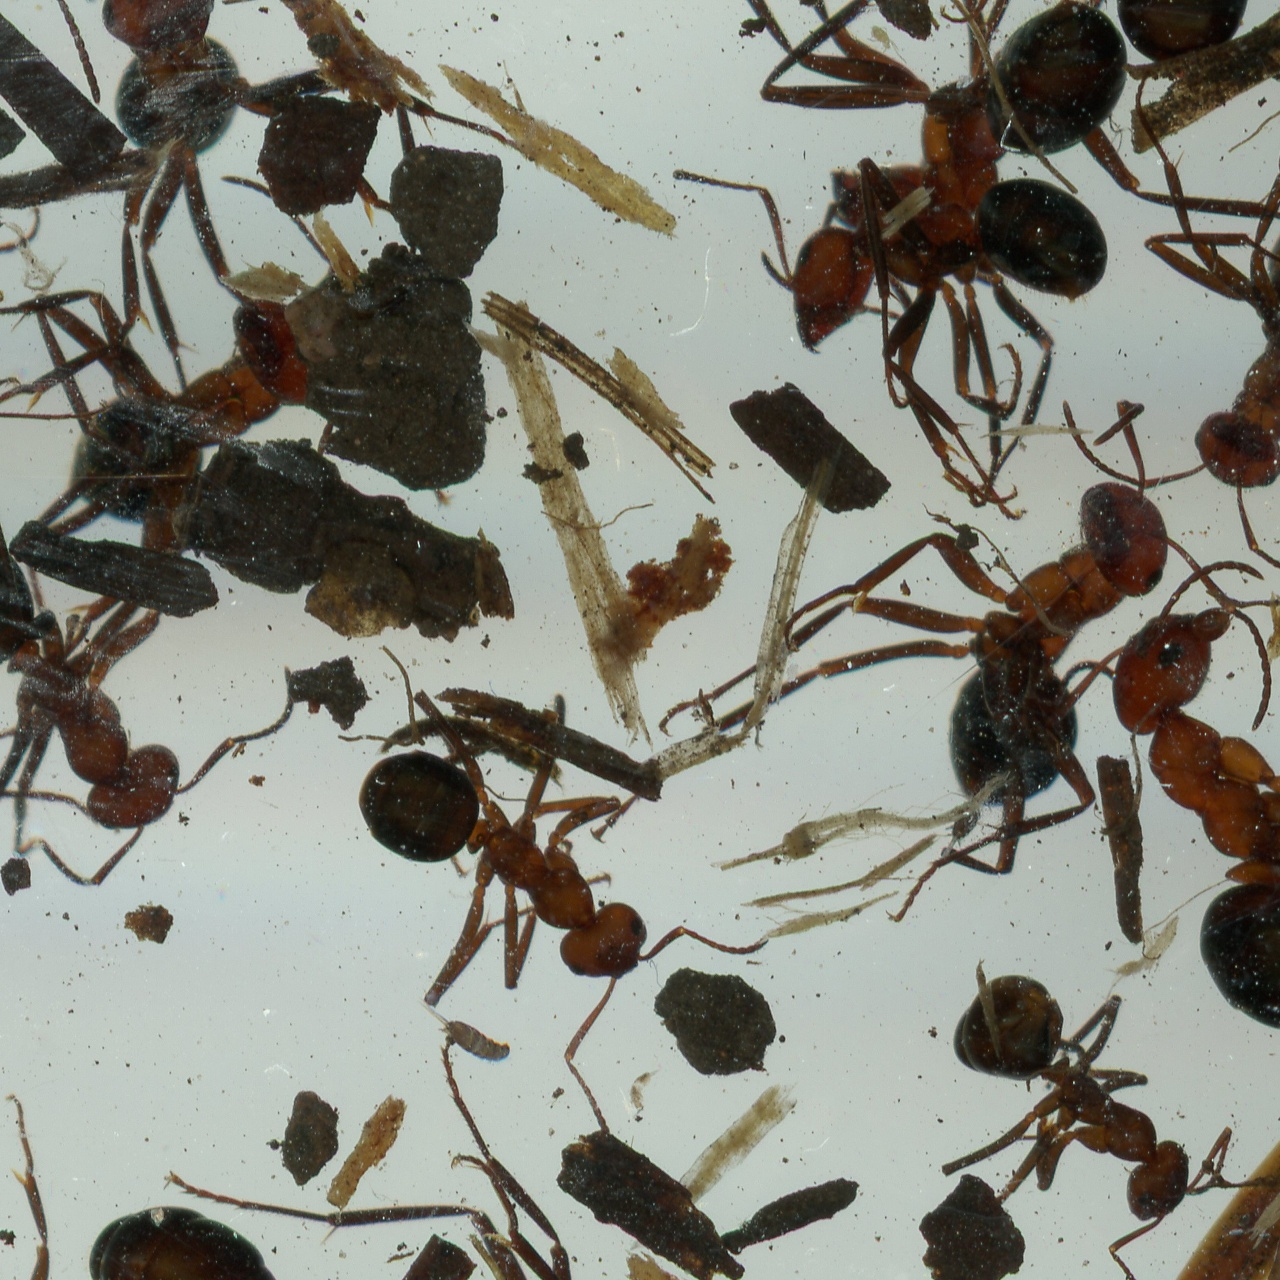arthropod: (254, 612, 813, 1160), (0, 0, 509, 519), (769, 354, 1150, 892), (0, 347, 334, 944), (157, 1012, 883, 1280), (668, 148, 1150, 517), (649, 0, 1132, 326), (863, 918, 1280, 1280), (1039, 35, 1280, 634), (0, 161, 362, 558), (0, 538, 164, 1250), (1068, 547, 1280, 1035), (0, 0, 128, 624), (1177, 291, 1280, 836), (64, 1198, 495, 1280), (1012, 0, 1280, 74), (0, 1085, 91, 1280), (411, 998, 518, 1071), (857, 16, 922, 68), (625, 1048, 666, 1117)
